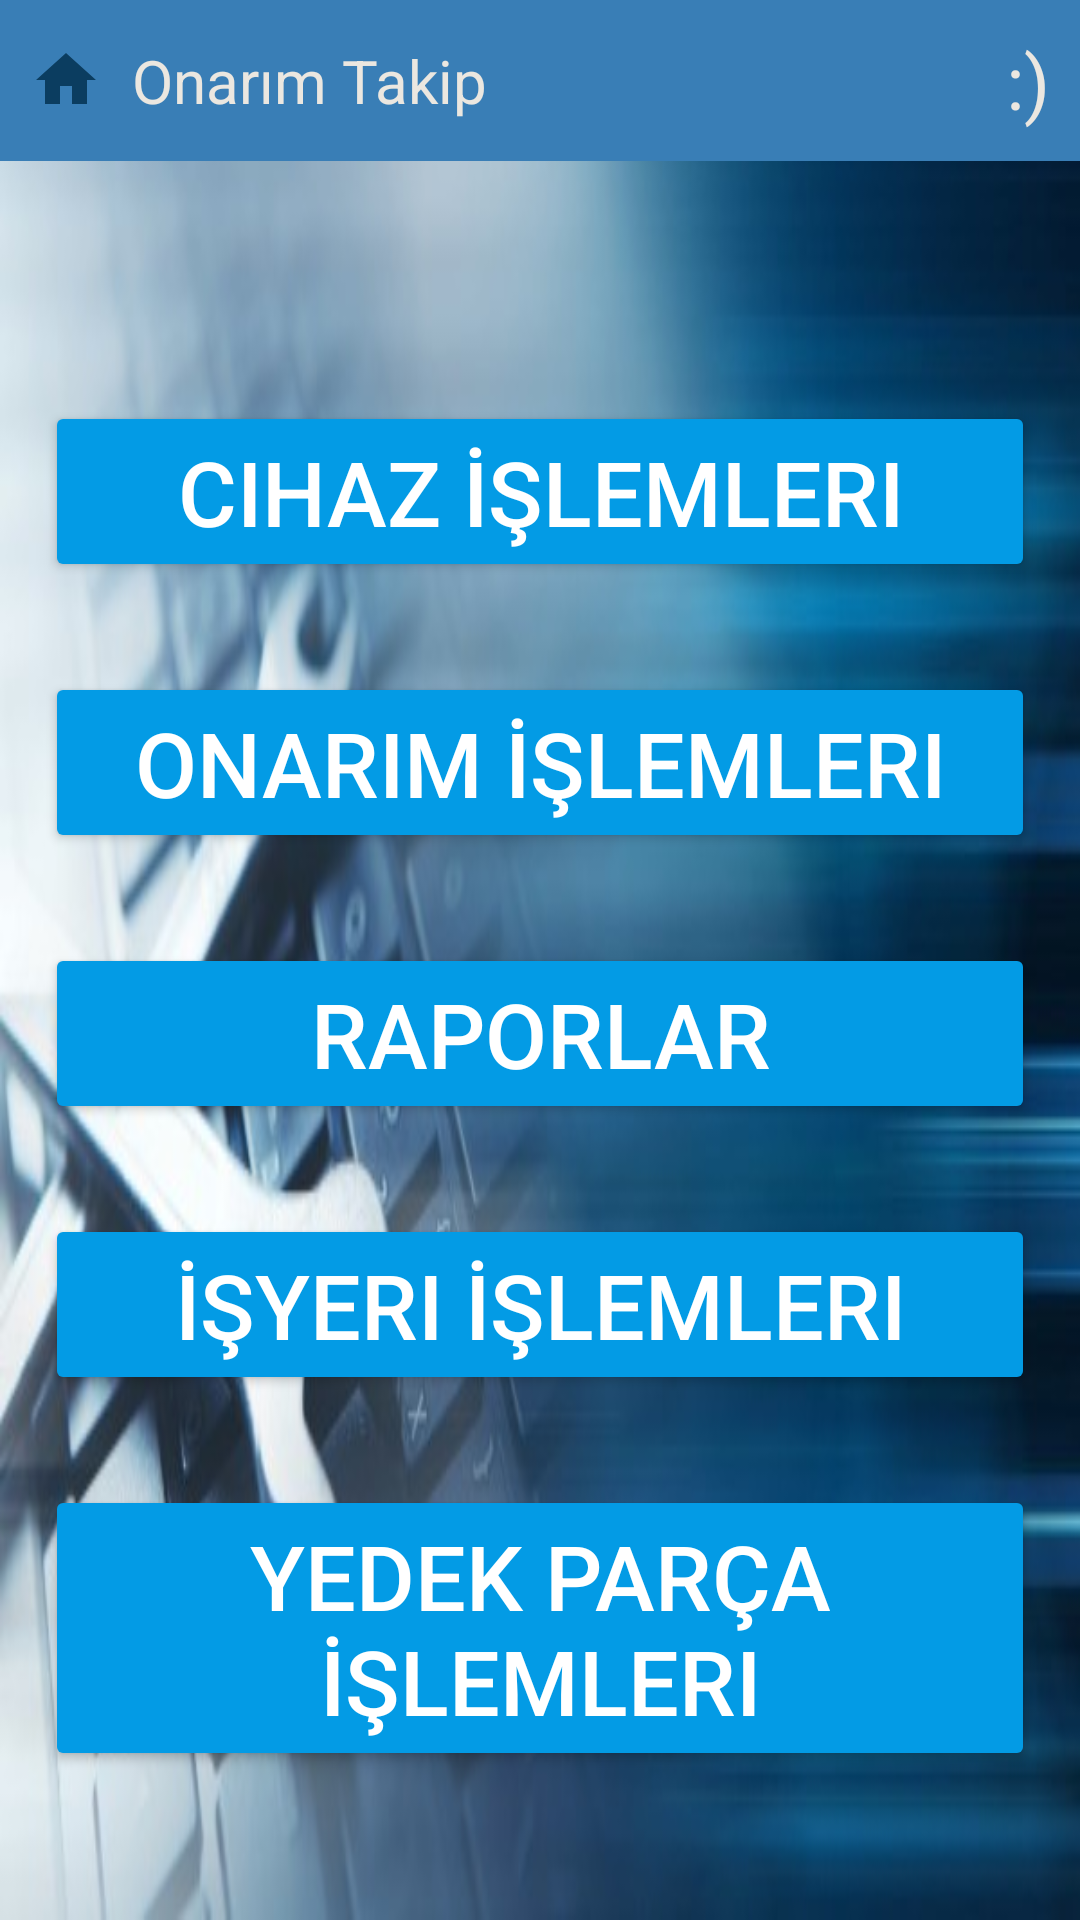

Icons on this 1080 × 1920 Android screen, each with its box as [x1,y1,x2,y2]:
home: [36,53,96,104]
